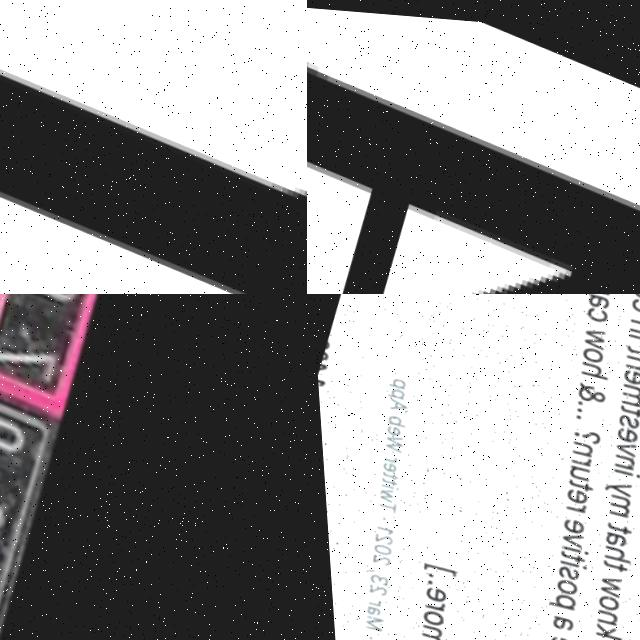0: (365, 538, 389, 559), (317, 350, 327, 364)
1: (369, 522, 389, 536), (314, 376, 324, 391)
2: (360, 578, 384, 599), (364, 549, 388, 569), (365, 527, 389, 547)
3: (361, 567, 385, 588)
4: (314, 360, 327, 377)
6: (11, 294, 88, 307)
7: (0, 327, 62, 381)
9: (0, 397, 32, 458), (320, 339, 330, 354)
A: (307, 0, 640, 294)
U: (0, 0, 307, 294)
